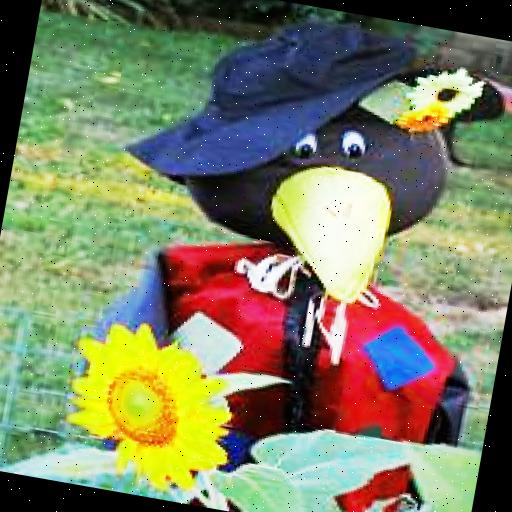sunflower: (60, 313, 250, 499), (404, 58, 493, 119)
